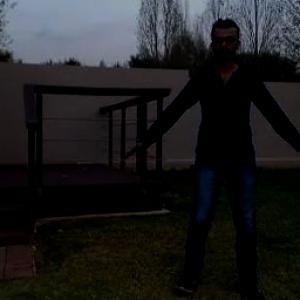land: (122, 19, 300, 299)
